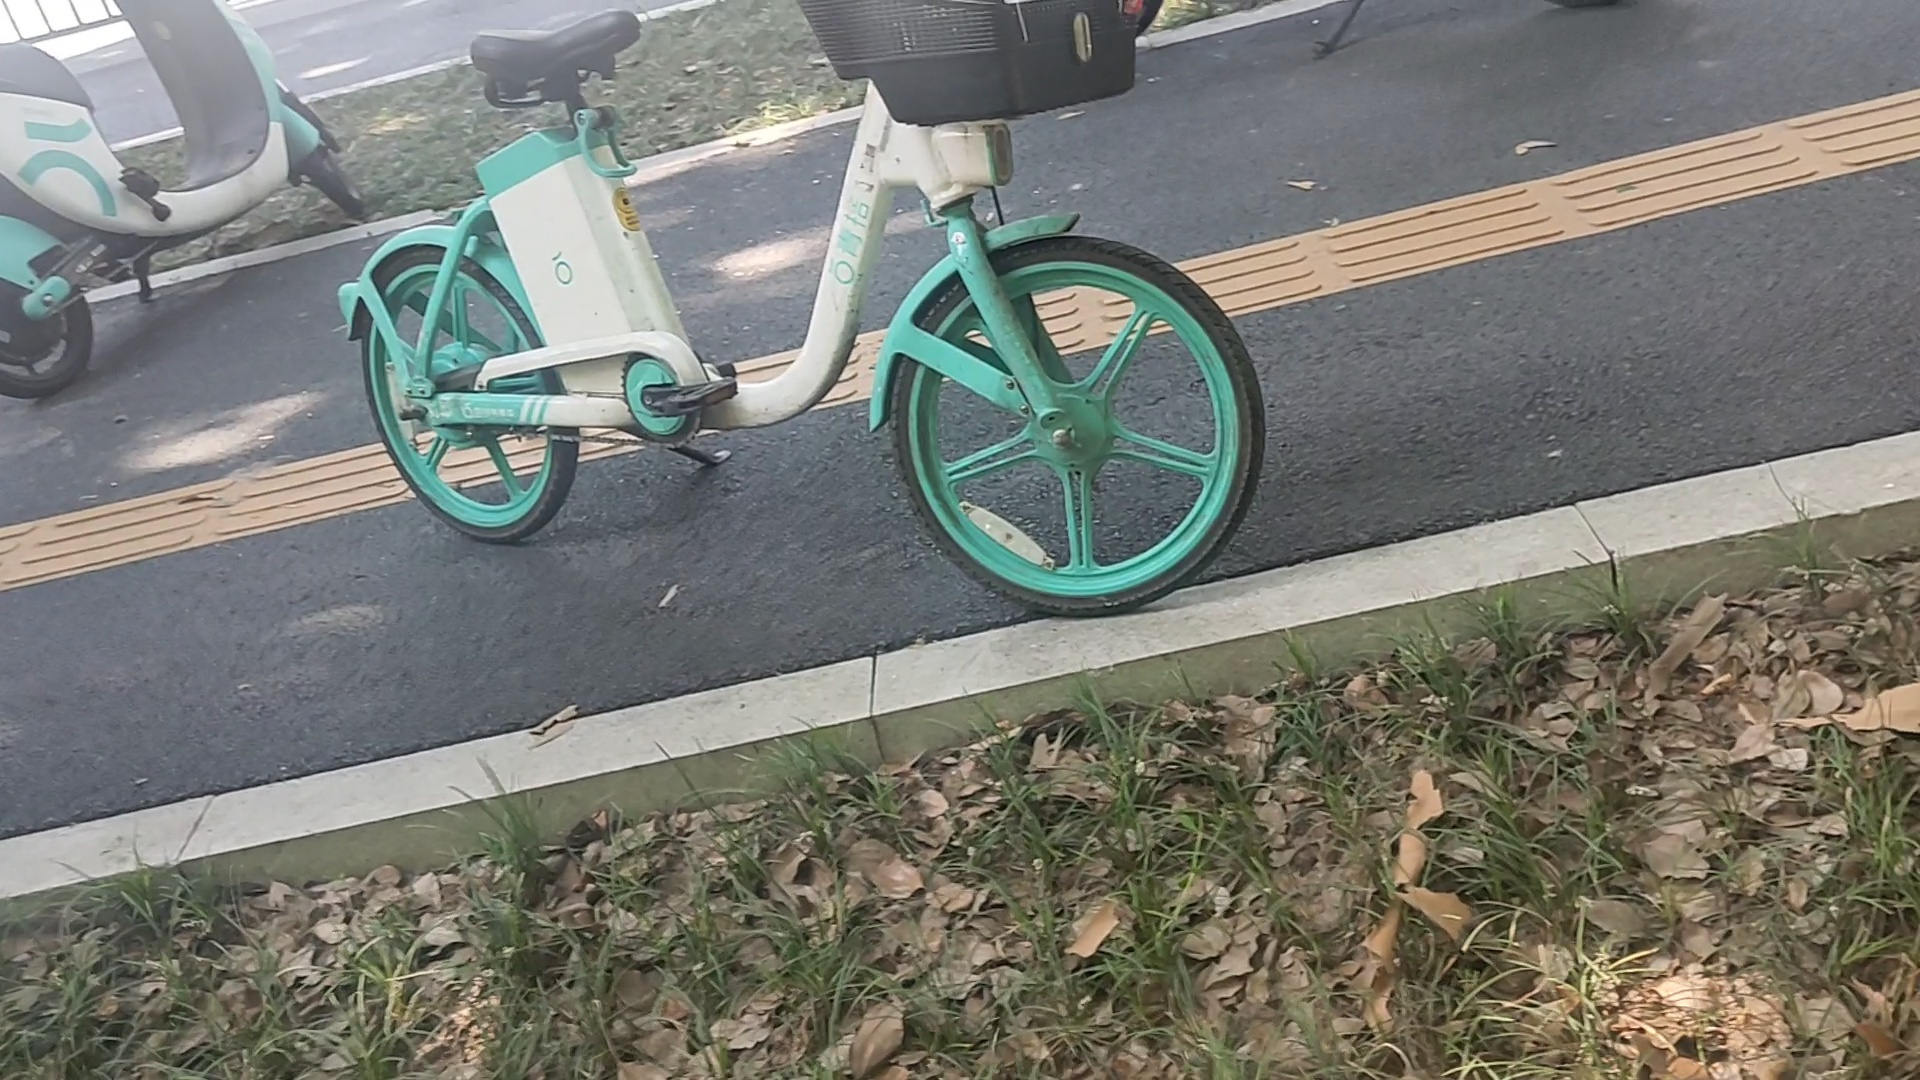non-vehicle: (316, 1, 1261, 605), (1, 1, 371, 413)
